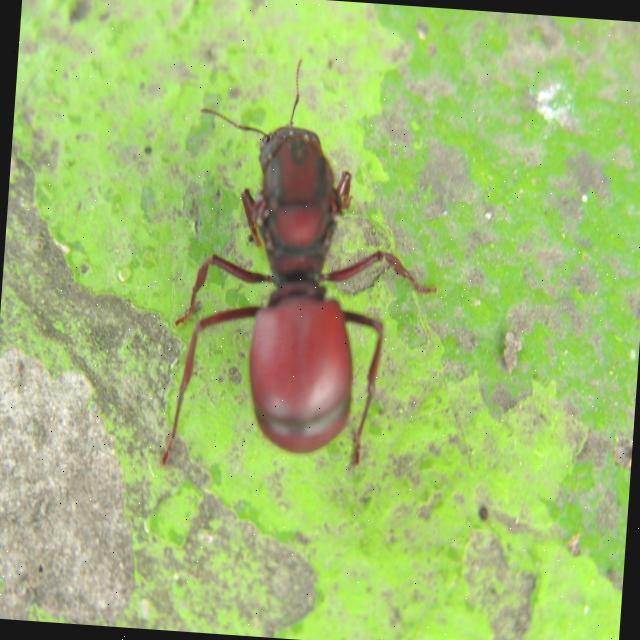Alive-Female-Dealate: (157, 48, 456, 488)
